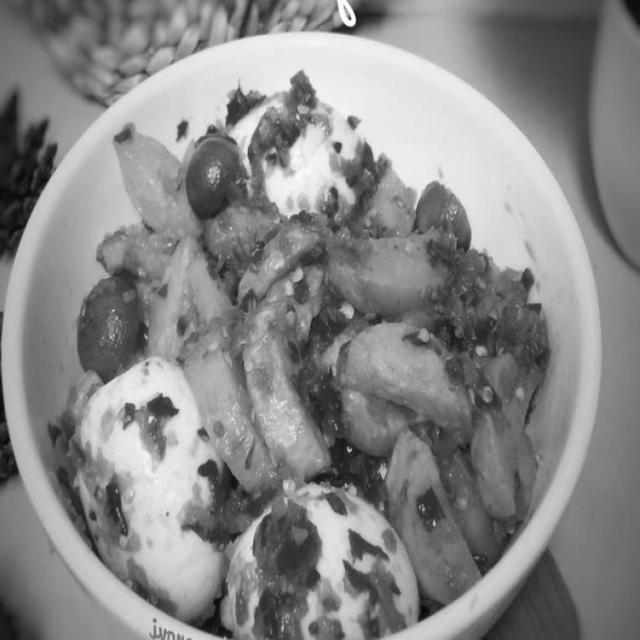telur_balado: (102, 362, 220, 590), (228, 493, 404, 629), (231, 102, 361, 228)
